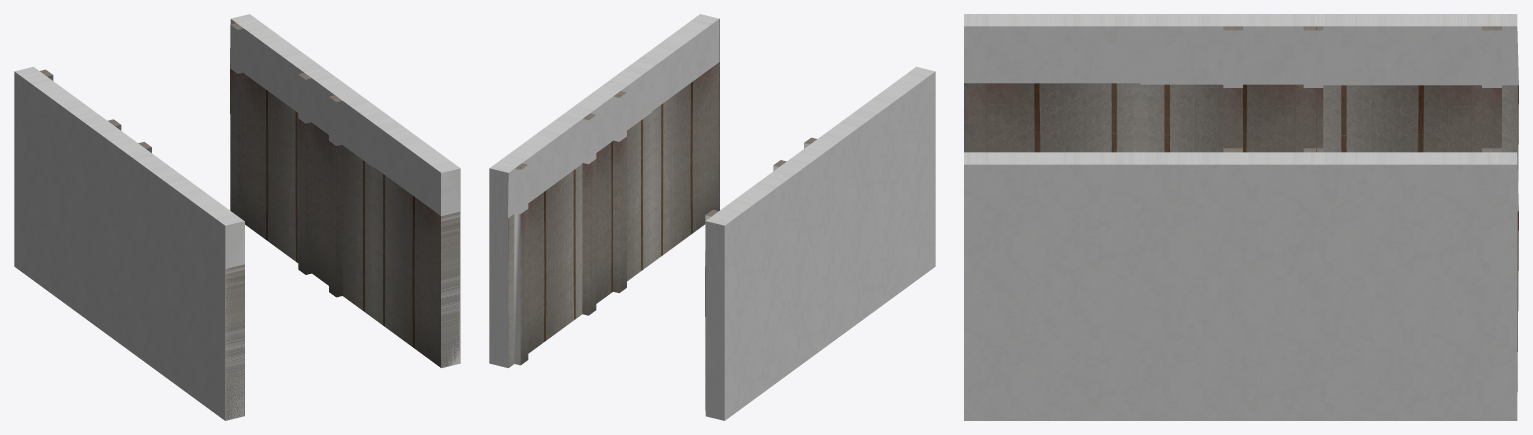
File: KitchenWall.fbx
3 views of the same model, side by side, from view 1: azimuth 30°, elevation 25°; view 2: azimuth 150°, elevation 25°; view 3: azimuth 270°, elevation 25° (orthographic). The views are drawn at different scales.
Visible parts, largest first — view 1: Kitchen_Wall2; view 2: Kitchen_Wall2; view 3: Kitchen_Wall2.
Part boxes in pixels (x1,y1,x2,y2): Kitchen_Wall2: [14, 14, 460, 420]; Kitchen_Wall2: [489, 14, 935, 420]; Kitchen_Wall2: [964, 14, 1518, 420].
Size of the model in its own units: 454 by 360 by 707.
2 materials, 2 textured.
